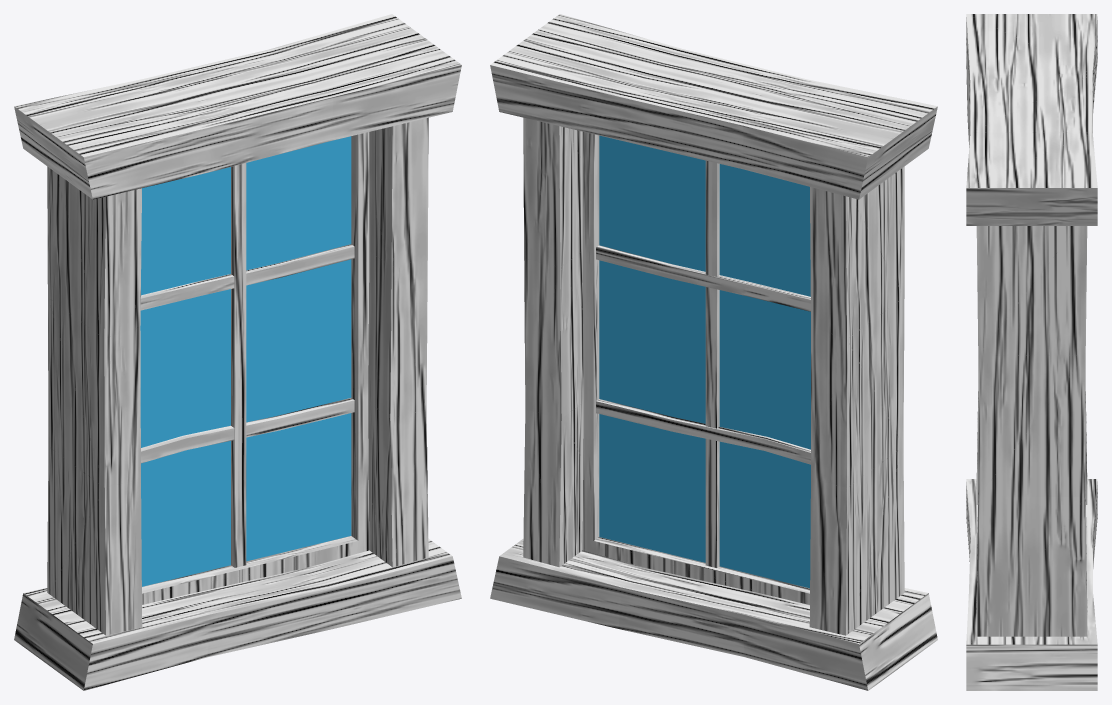
The model's file is ARC0110031.fbx.
3 views of the same model, side by side, from view 1: azimuth 30°, elevation 25°; view 2: azimuth 150°, elevation 25°; view 3: azimuth 270°, elevation 25° (orthographic). The views are drawn at different scales.
Visible parts, largest first — view 1: smARC0110031; view 2: smARC0110031; view 3: smARC0110031.
Boxes of the visible parts, bbox=[...] form: smARC0110031: bbox=[14, 14, 461, 690]; smARC0110031: bbox=[490, 14, 937, 690]; smARC0110031: bbox=[966, 14, 1097, 690].
Size of the model in its own units: 90.84 by 123 by 28.99.
1 material, 1 textured.
